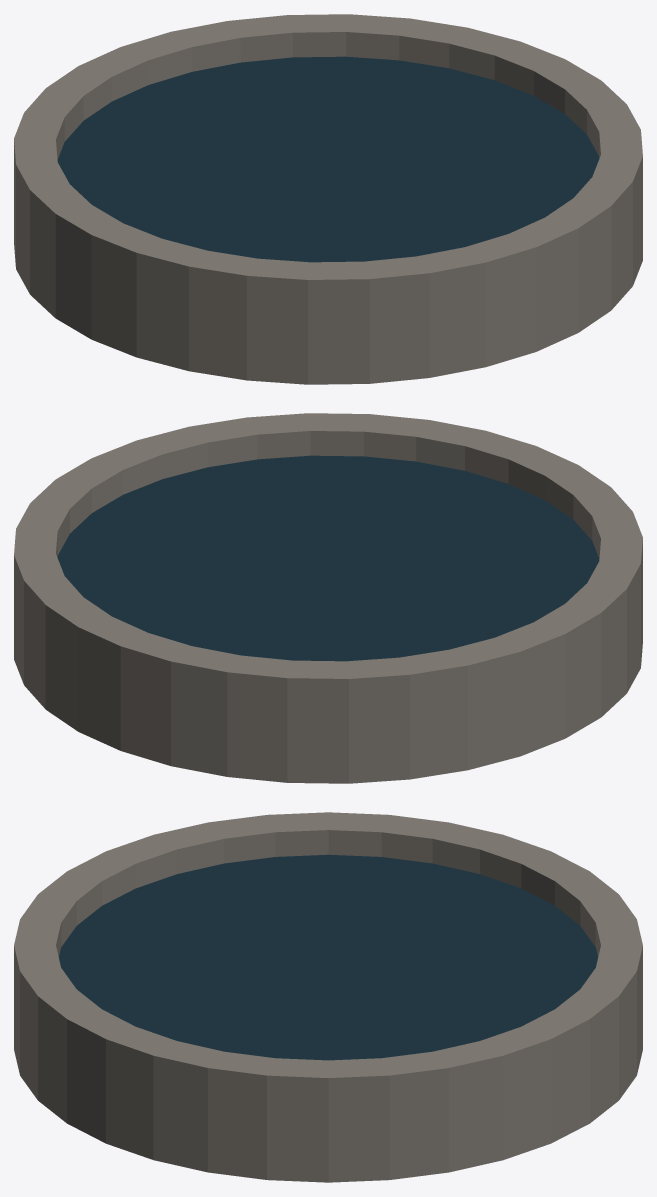
Rendered from fountain.obj.
3 renders of one model, top to bottom at view 1: azimuth 30°, elevation 25°; view 2: azimuth 150°, elevation 25°; view 3: azimuth 270°, elevation 25°, orthographic.
Visible parts, largest first — view 1: Water; view 2: Water; view 3: Water.
Boxes of the visible parts, <box> form: Water: <box>14,14,642,384</box>; Water: <box>14,413,642,783</box>; Water: <box>14,812,642,1182</box>.
Size of the model in its own units: 3 by 0.55 by 3.
